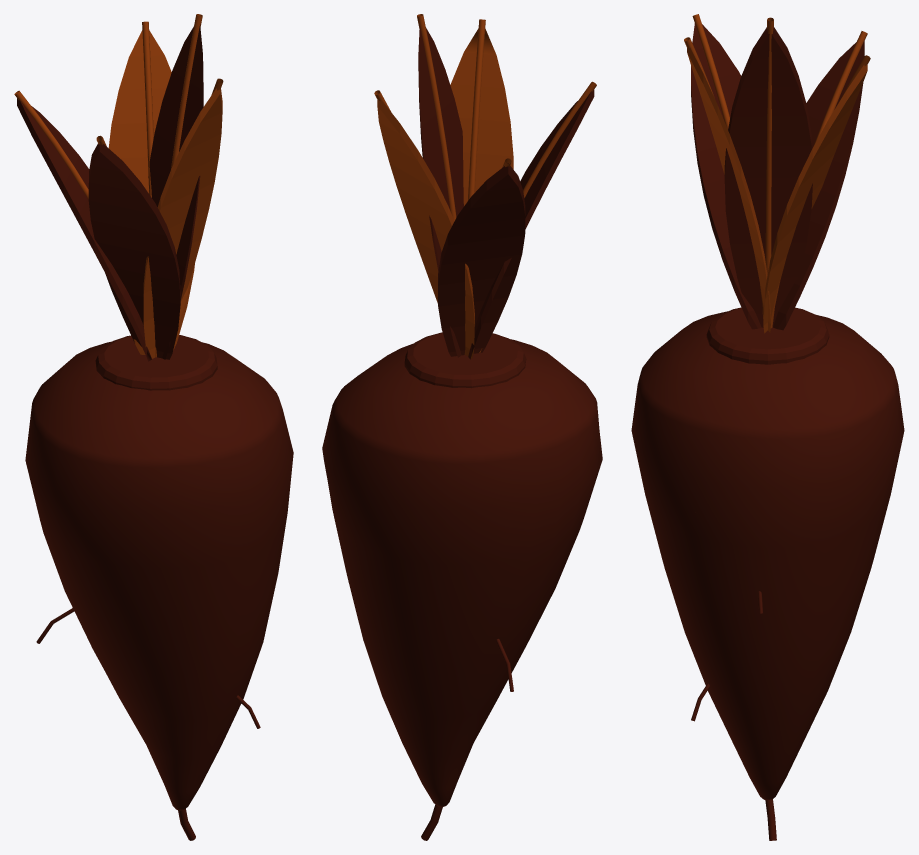
The model's file is carrot.fbx.
3 renders of one model, left to right at view 1: azimuth 30°, elevation 25°; view 2: azimuth 150°, elevation 25°; view 3: azimuth 270°, elevation 25°, orthographic.
Visible parts, largest first — view 1: carrot; view 2: carrot; view 3: carrot.
Boxes of the visible parts, x1=… form: carrot: x1=14, y1=14, x2=293, y2=840; carrot: x1=322, y1=14, x2=602, y2=840; carrot: x1=631, y1=14, x2=904, y2=840.
Size of the model in its own units: 30.63 by 100 by 29.95.
